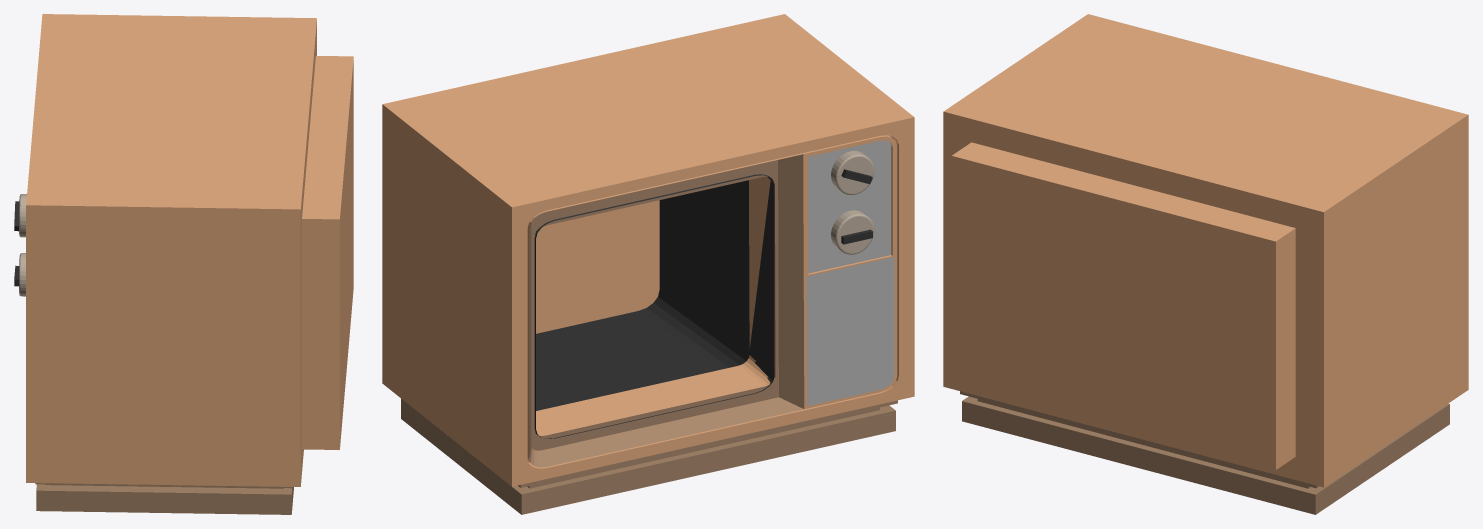
3 views of the same model, side by side, from view 1: azimuth 30°, elevation 25°; view 2: azimuth 150°, elevation 25°; view 3: azimuth 270°, elevation 25° (orthographic).
Parts seen in each view (by area): view 1: Tv; view 2: Tv; view 3: Tv.
Part boxes in pixels (box(x1,y1,x2,y2)): Tv: box(14, 14, 353, 514); Tv: box(382, 14, 914, 514); Tv: box(943, 14, 1468, 514).
Size of the model in its own units: 344 by 243 by 373.
